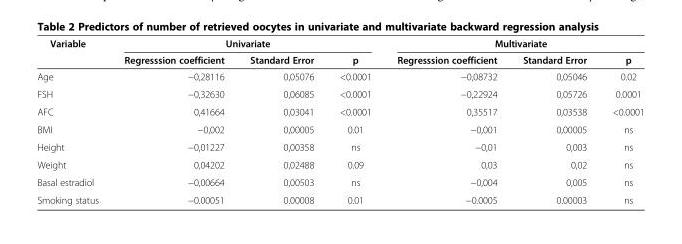table: (36, 37, 643, 205)
table column: (110, 37, 236, 205), (383, 37, 509, 205), (236, 37, 326, 205), (509, 37, 598, 205), (36, 37, 110, 205), (326, 37, 383, 205), (598, 37, 643, 205)
table column header: (36, 37, 643, 67)
table row: (36, 84, 643, 102), (36, 102, 643, 120), (36, 137, 643, 155), (36, 172, 643, 190), (36, 67, 643, 84), (36, 120, 643, 137), (36, 155, 643, 172), (36, 51, 643, 67), (36, 190, 643, 205), (36, 37, 643, 51)
table spanning cell: (110, 37, 383, 51), (383, 37, 643, 51), (36, 37, 110, 67)
